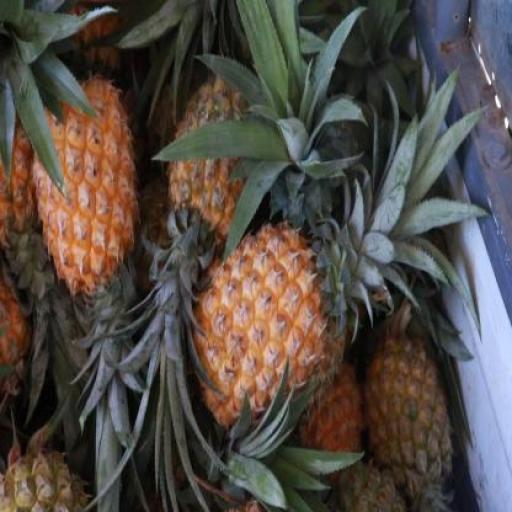------------------------------: (360, 311, 447, 483)
Pineapple - v8 v1: (188, 215, 336, 426), (26, 67, 138, 294)
